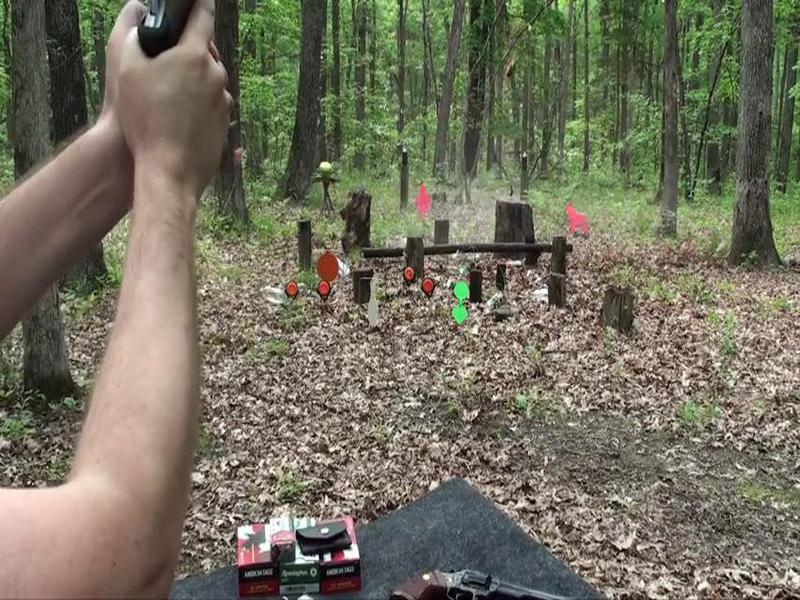Revolver: (389, 550, 581, 600)
